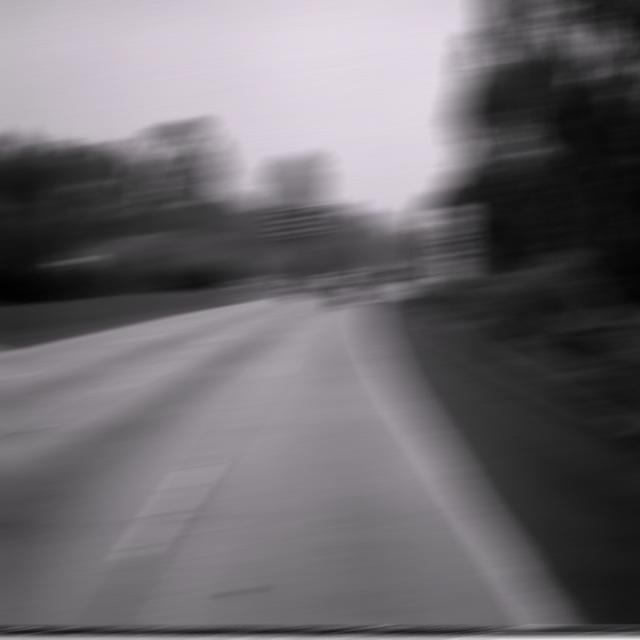speedLimit65: (433, 205, 470, 258)
